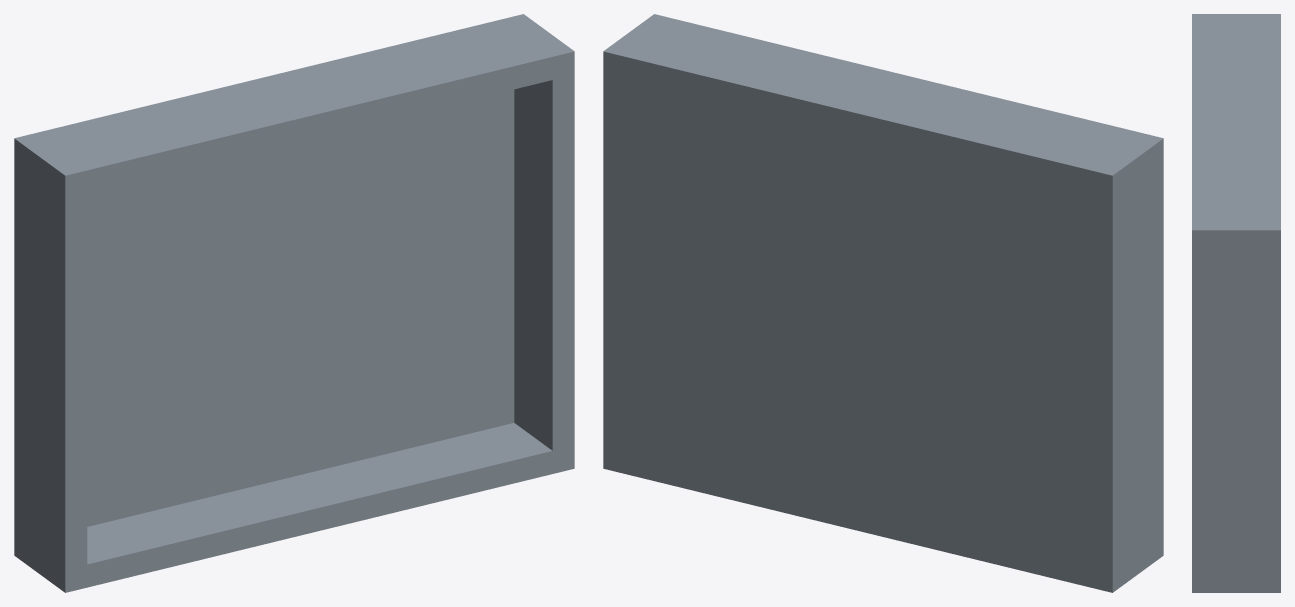
File: housing.glb
The picture shows the model from 3 angles, left to right: view 1: azimuth 30°, elevation 25°; view 2: azimuth 150°, elevation 25°; view 3: azimuth 270°, elevation 25°; orthographic projection. The views are drawn at different scales.
Size of the model in its own units: 46 by 36 by 8.
